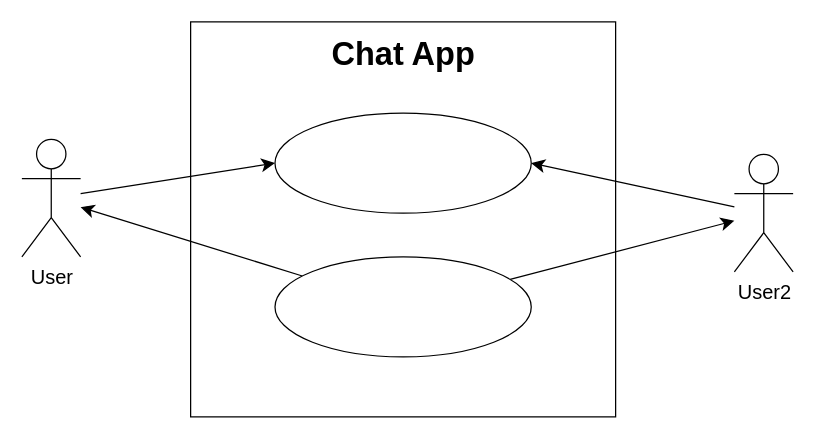
Image size: 815x439. Some labels were removed from this diagram. The shapes that lost their labels are listed below. From the top down, each one's centre as x and y in pixels, then its label:
pixel 402 162: Send Message
pixel 402 306: Receive Message
